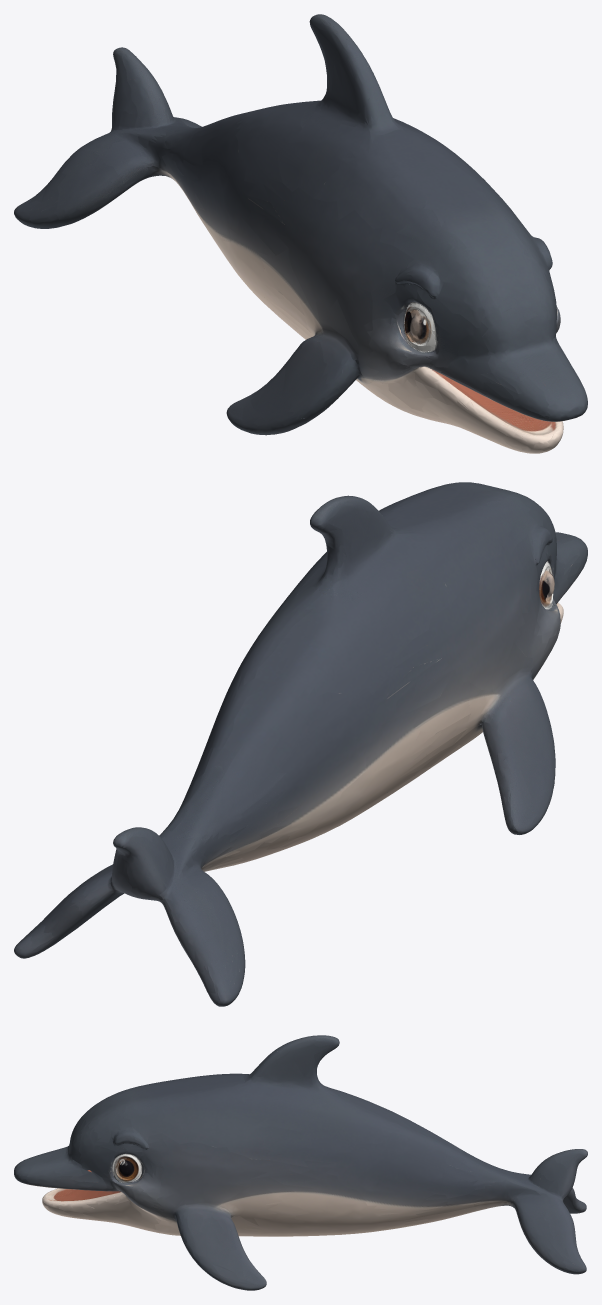
Rendered from dolphin_src.glb.
3 renders of one model, top to bottom at view 1: azimuth 30°, elevation 25°; view 2: azimuth 150°, elevation 25°; view 3: azimuth 270°, elevation 25°, orthographic. The views are drawn at different scales.
Parts seen in each view (by area): view 1: Mesh_0; view 2: Mesh_0; view 3: Mesh_0.
Part boxes in pixels (left/top/right/bottom): Mesh_0: left=14, top=14, right=587, bottom=453; Mesh_0: left=14, top=482, right=587, bottom=1006; Mesh_0: left=14, top=1035, right=587, bottom=1290.
Bounding box in the file's own units: 0.7219 × 0.7695 × 1.9.
1 material, 1 textured.
